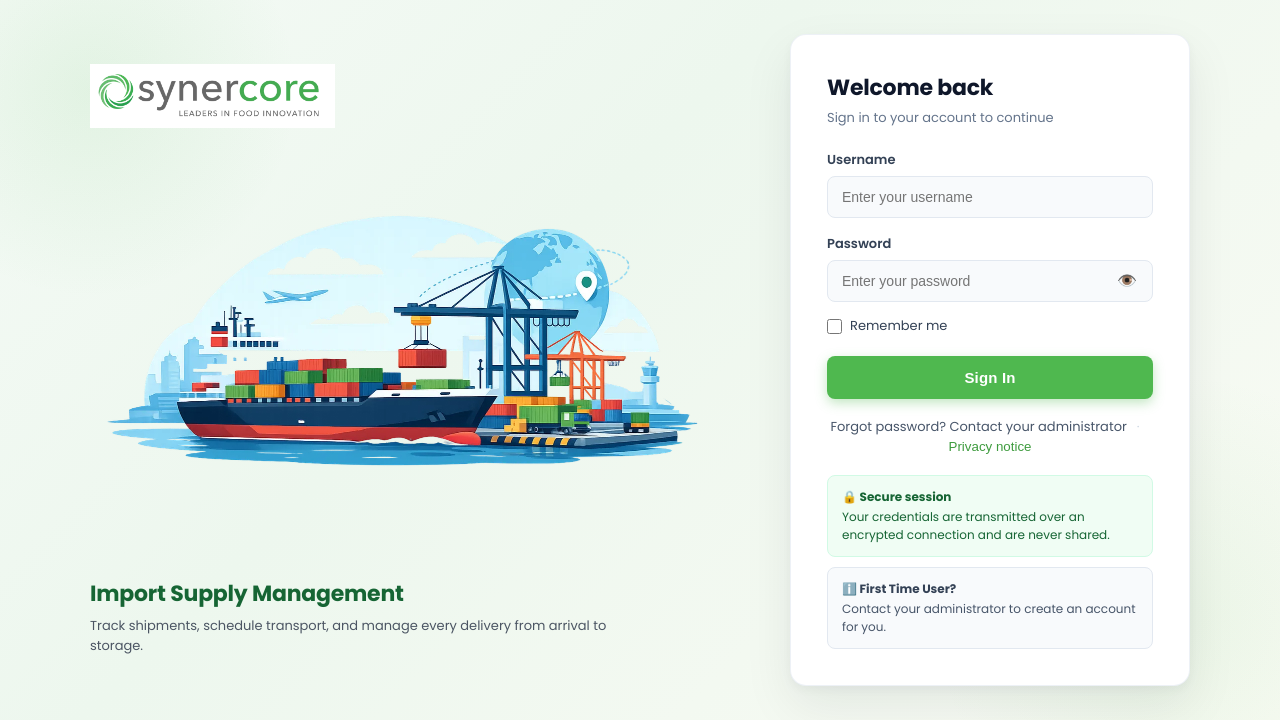
Accessibility - Form Validation › should announce form errors to screen readers
This screenshot has width=1280, height=720.
Step 1. Click the button "Sign In" → (990, 378), box [827,356,1153,399]
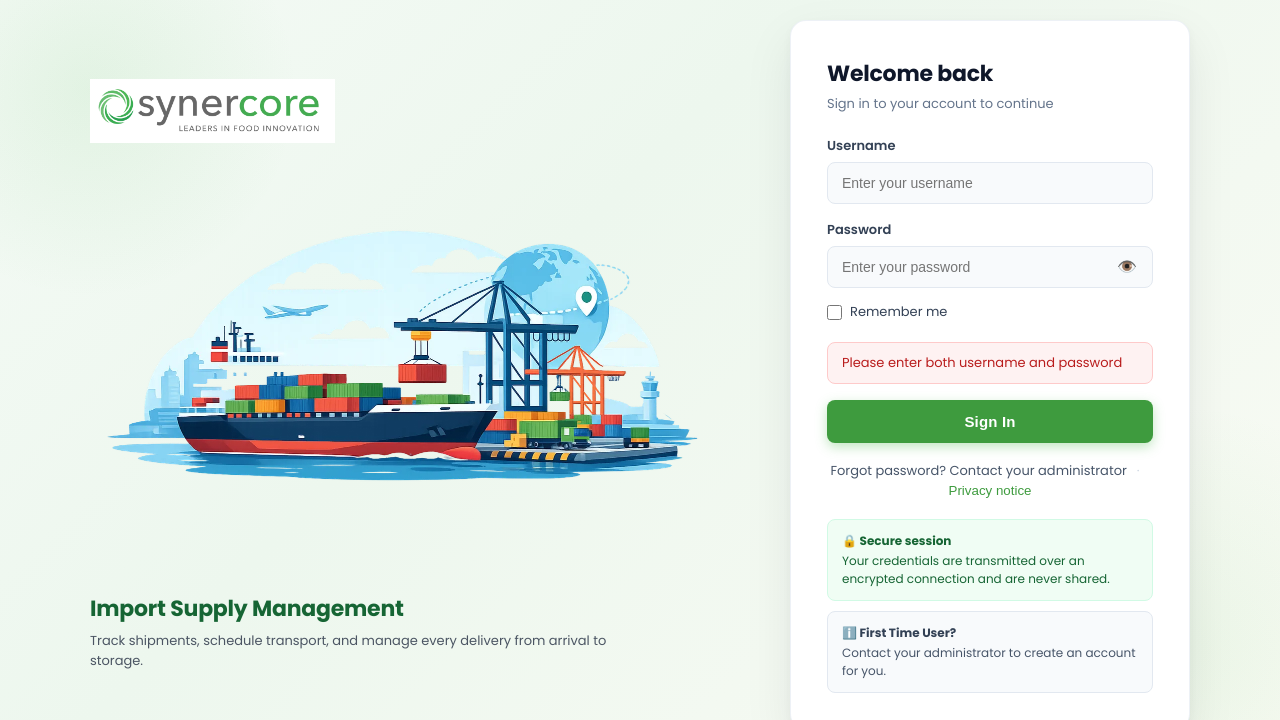
Now the message "Please enter both username and password" is shown, box [827,342,1153,384]
